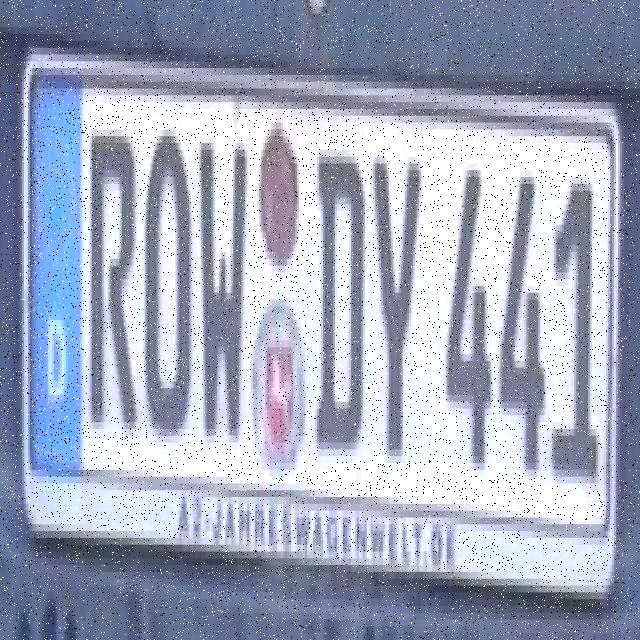licenseplate: (12, 21, 628, 612)
